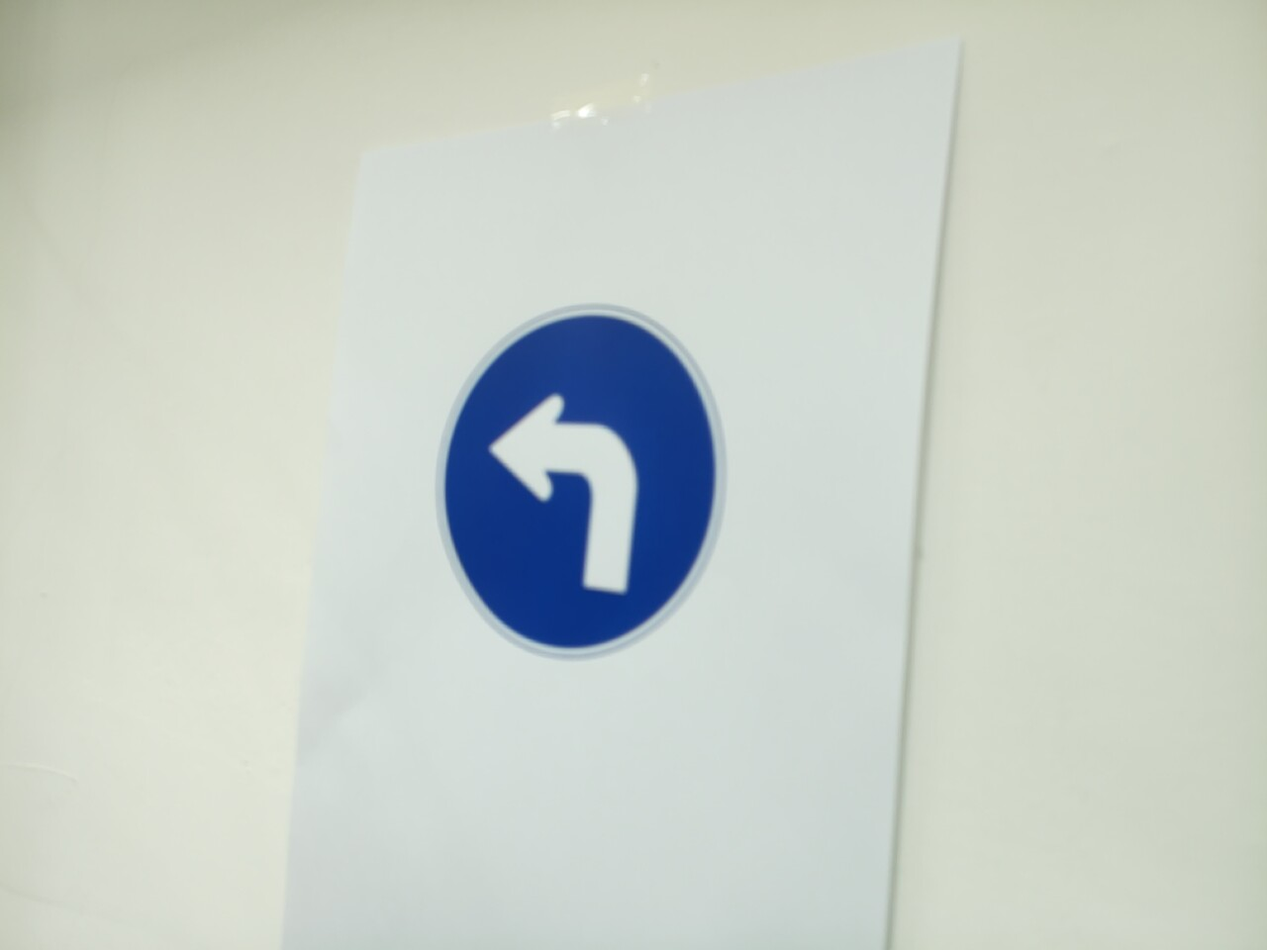left_turn: (436, 305, 725, 658)
